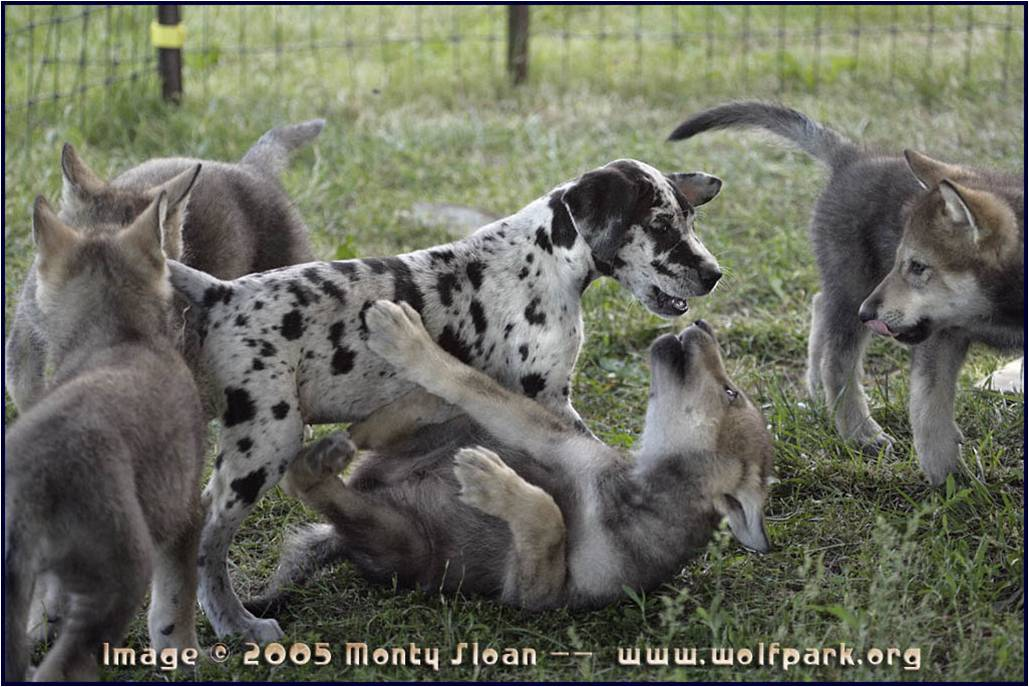dog: (193, 164, 738, 641)
wolf: (258, 302, 775, 617), (667, 104, 1029, 488), (4, 196, 216, 687), (1, 119, 333, 428)
